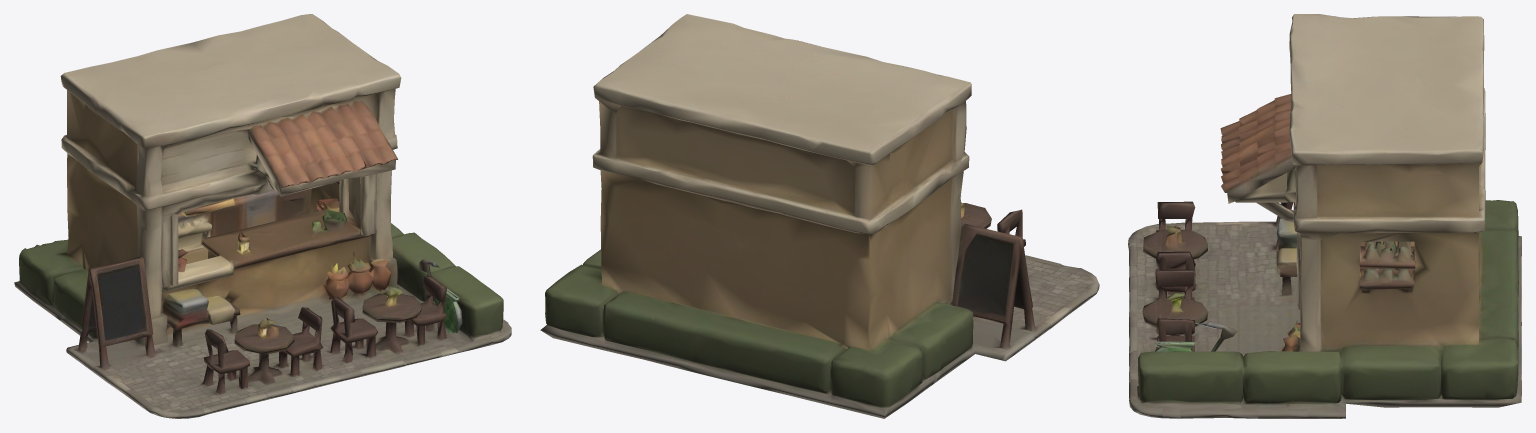
The model's file is restaurant_main.glb.
3 renders of one model, left to right at view 1: azimuth 30°, elevation 25°; view 2: azimuth 150°, elevation 25°; view 3: azimuth 270°, elevation 25°, orthographic. The views are drawn at different scales.
Parts seen in each view (by area): view 1: tripo_node_673ba6fb-0868-47fd-a3e3-787af756b713; view 2: tripo_node_673ba6fb-0868-47fd-a3e3-787af756b713; view 3: tripo_node_673ba6fb-0868-47fd-a3e3-787af756b713.
Part boxes in pixels (left/top/right/bottom): tripo_node_673ba6fb-0868-47fd-a3e3-787af756b713: left=14, top=14, right=511, bottom=418; tripo_node_673ba6fb-0868-47fd-a3e3-787af756b713: left=540, top=14, right=1099, bottom=418; tripo_node_673ba6fb-0868-47fd-a3e3-787af756b713: left=1128, top=14, right=1521, bottom=418.
Size of the model in its own units: 1 by 0.5853 by 0.8639.
Materials: 1 (1 with a texture image).
